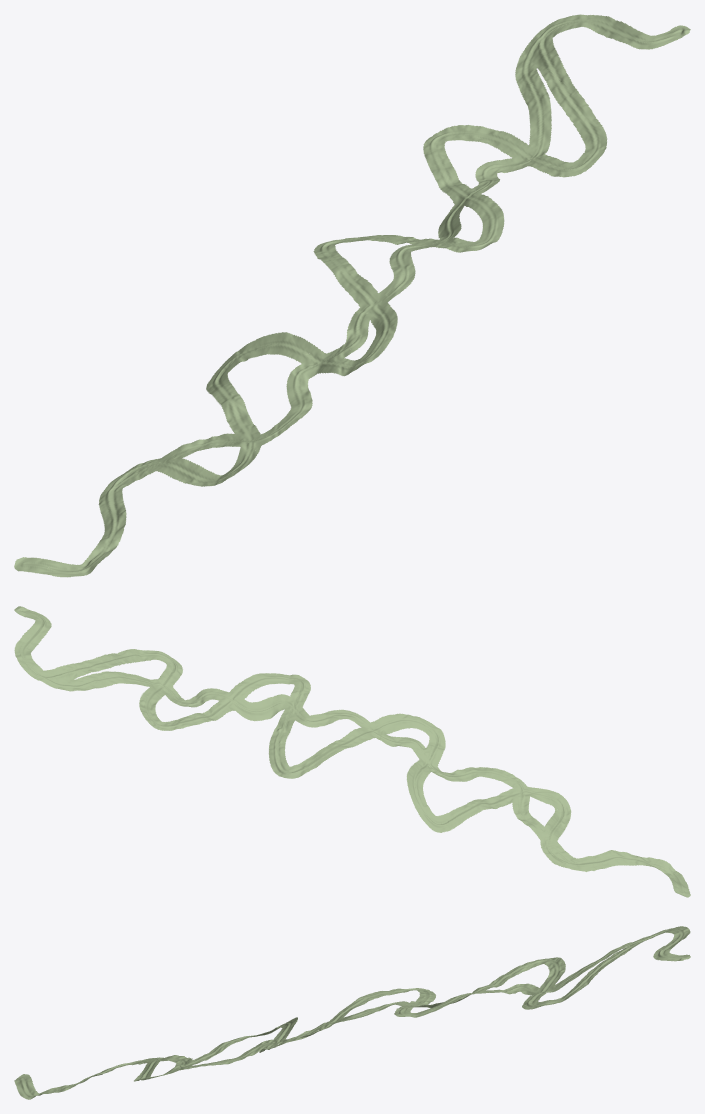
File: corridor-v4-mobile.glb
The picture shows the model from 3 angles, top to bottom: view 1: azimuth 30°, elevation 25°; view 2: azimuth 150°, elevation 25°; view 3: azimuth 330°, elevation 25°; orthographic projection. The views are drawn at different scales.
Parts seen in each view (by area): view 1: Trail / 11 11, Trail / 12 10, Trail / 7 13, Trail / 6 13, Trail / 5 13, Trail / 8 13, Trail / 10 11, Trail / 7 12, Trail / 9 12, Trail / 8 12, Trail / 11 10, Trail / 11 12 (+3 smaller); view 2: Trail / 9 12, Trail / 11 11, Trail / 12 10, Trail / 5 13, Trail / 6 13, Trail / 7 13, Trail / 8 13, Trail / 10 11, Trail / 10 12, Trail / 7 12, Trail / 8 12, Trail / 11 10 (+7 smaller); view 3: Trail / 11 11, Trail / 10 11, Trail / 6 13, Trail / 7 13, Trail / 9 12, Trail / 12 10, Trail / 8 12, Trail / 5 13, Trail / 11 12, Trail / 8 13, Trail / 10 10, Trail / 11 10.
Boxes of the visible parts, x1=… form: Trail / 11 11: x1=480, y1=82, x2=603, y2=170; Trail / 12 10: x1=521, y1=14, x2=636, y2=81; Trail / 7 13: x1=285, y1=345, x2=372, y2=422; Trail / 6 13: x1=178, y1=397, x2=295, y2=480; Trail / 5 13: x1=98, y1=448, x2=215, y2=517; Trail / 8 13: x1=342, y1=278, x2=413, y2=360; Trail / 10 11: x1=427, y1=138, x2=515, y2=218; Trail / 7 12: x1=211, y1=332, x2=315, y2=382; Trail / 9 12: x1=389, y1=216, x2=491, y2=277; Trail / 8 12: x1=327, y1=260, x2=411, y2=323; Trail / 11 10: x1=468, y1=54, x2=560, y2=137; Trail / 11 12: x1=538, y1=129, x2=607, y2=177; Trail / 9 12: x1=246, y1=678, x2=342, y2=735; Trail / 11 11: x1=89, y1=650, x2=177, y2=708; Trail / 12 10: x1=14, y1=627, x2=88, y2=688; Trail / 5 13: x1=532, y1=812, x2=615, y2=871; Trail / 6 13: x1=472, y1=769, x2=561, y2=829; Trail / 7 13: x1=412, y1=727, x2=499, y2=781; Trail / 8 13: x1=343, y1=710, x2=435, y2=748; Trail / 10 11: x1=150, y1=689, x2=246, y2=725; Trail / 10 12: x1=206, y1=673, x2=281, y2=716; Trail / 7 12: x1=406, y1=763, x2=449, y2=831; Trail / 8 12: x1=322, y1=711, x2=389, y2=753; Trail / 11 10: x1=60, y1=666, x2=149, y2=711; Trail / 11 11: x1=528, y1=957, x2=614, y2=998; Trail / 10 11: x1=459, y1=967, x2=554, y2=1000; Trail / 6 13: x1=147, y1=1043, x2=232, y2=1079; Trail / 7 13: x1=206, y1=1033, x2=289, y2=1065; Trail / 9 12: x1=363, y1=999, x2=457, y2=1016; Trail / 12 10: x1=618, y1=926, x2=690, y2=956; Trail / 8 12: x1=316, y1=994, x2=382, y2=1027; Trail / 5 13: x1=90, y1=1056, x2=170, y2=1080; Trail / 11 12: x1=522, y1=991, x2=577, y2=1009; Trail / 8 13: x1=269, y1=1016, x2=361, y2=1048; Trail / 10 10: x1=515, y1=957, x2=563, y2=970; Trail / 11 10: x1=555, y1=937, x2=644, y2=970.
Size of the model in its own units: 1238 by 412 by 544.
